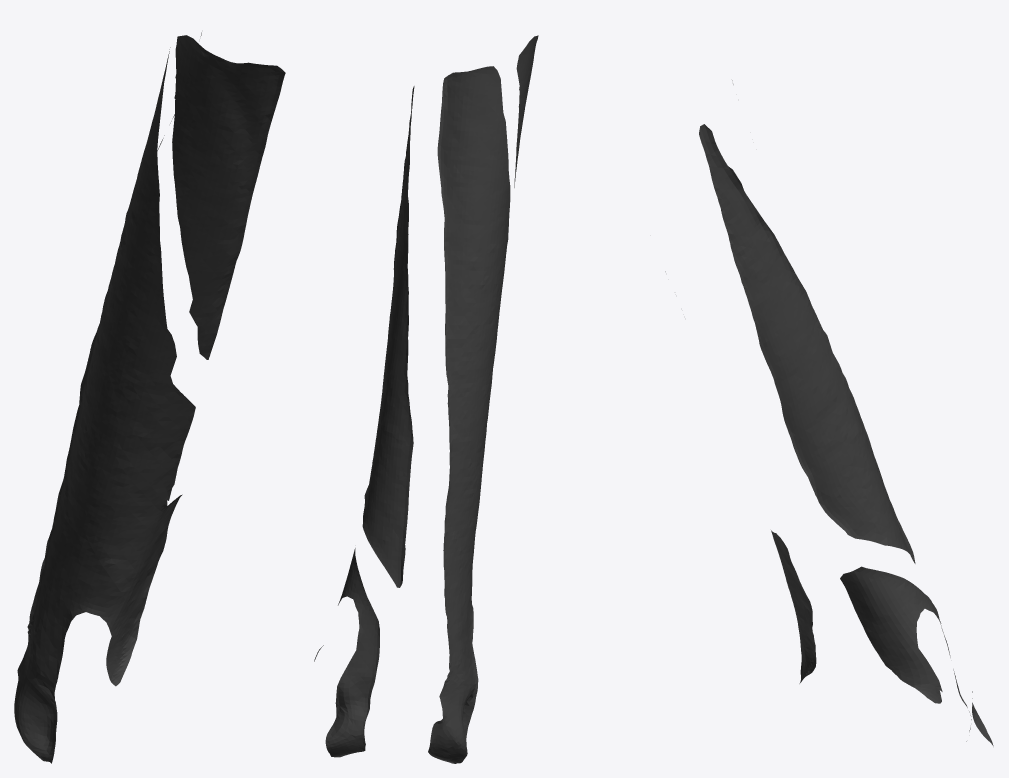
The model's file is eq_dist_limb_Cannon_Bone.glb.
3 renders of one model, left to right at view 1: azimuth 30°, elevation 25°; view 2: azimuth 150°, elevation 25°; view 3: azimuth 270°, elevation 25°, orthographic. The views are drawn at different scales.
Visible parts, largest first — view 1: eq_dist_limb_Cannon_Bone; view 2: eq_dist_limb_Cannon_Bone; view 3: eq_dist_limb_Cannon_Bone.
Part boxes in pixels (left/top/right/bottom): eq_dist_limb_Cannon_Bone: left=14, top=32, right=285, bottom=763; eq_dist_limb_Cannon_Bone: left=314, top=35, right=538, bottom=763; eq_dist_limb_Cannon_Bone: left=665, top=80, right=993, bottom=746.
Size of the model in its own units: 0.00803 by 0.0377 by 0.0194.
1 material, 1 textured.
